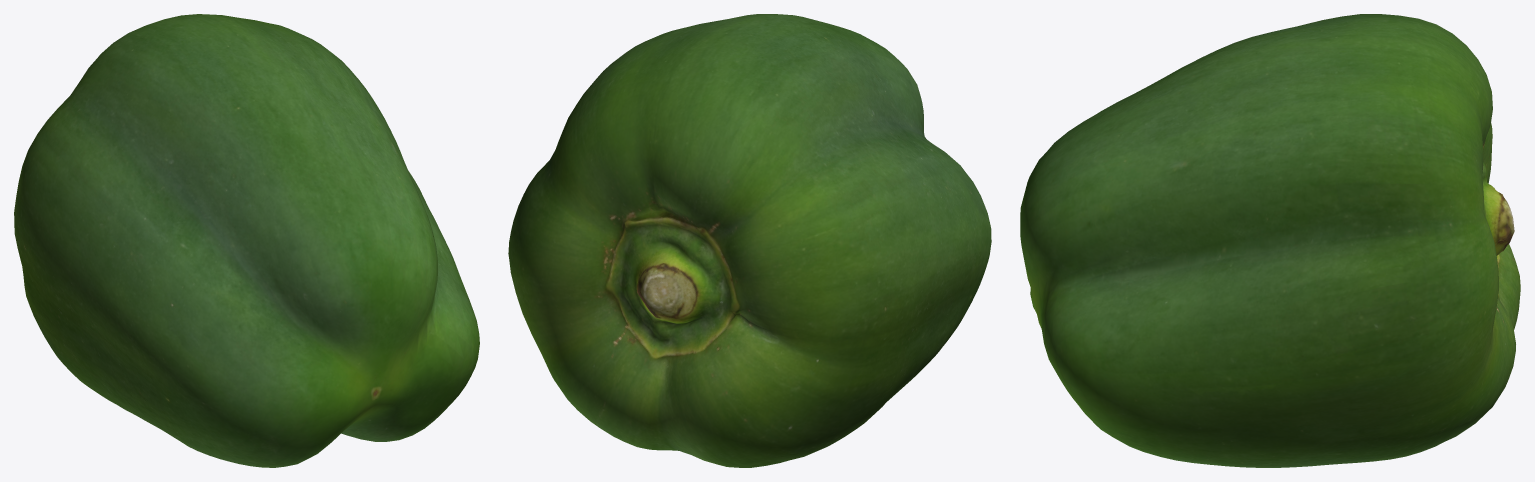
Rendered from green_bell_pepper.glb.
3 renders of one model, left to right at view 1: azimuth 30°, elevation 25°; view 2: azimuth 150°, elevation 25°; view 3: azimuth 270°, elevation 25°, orthographic. The views are drawn at different scales.
Visible parts, largest first — view 1: Object_2; view 2: Object_2; view 3: Object_2.
Boxes of the visible parts, <box> form: Object_2: <box>14,14,479,467</box>; Object_2: <box>508,14,991,467</box>; Object_2: <box>1020,14,1520,467</box>.
Bounding box in the file's own units: 1.31 × 1.28 × 1.48.
1 material, 1 textured.
